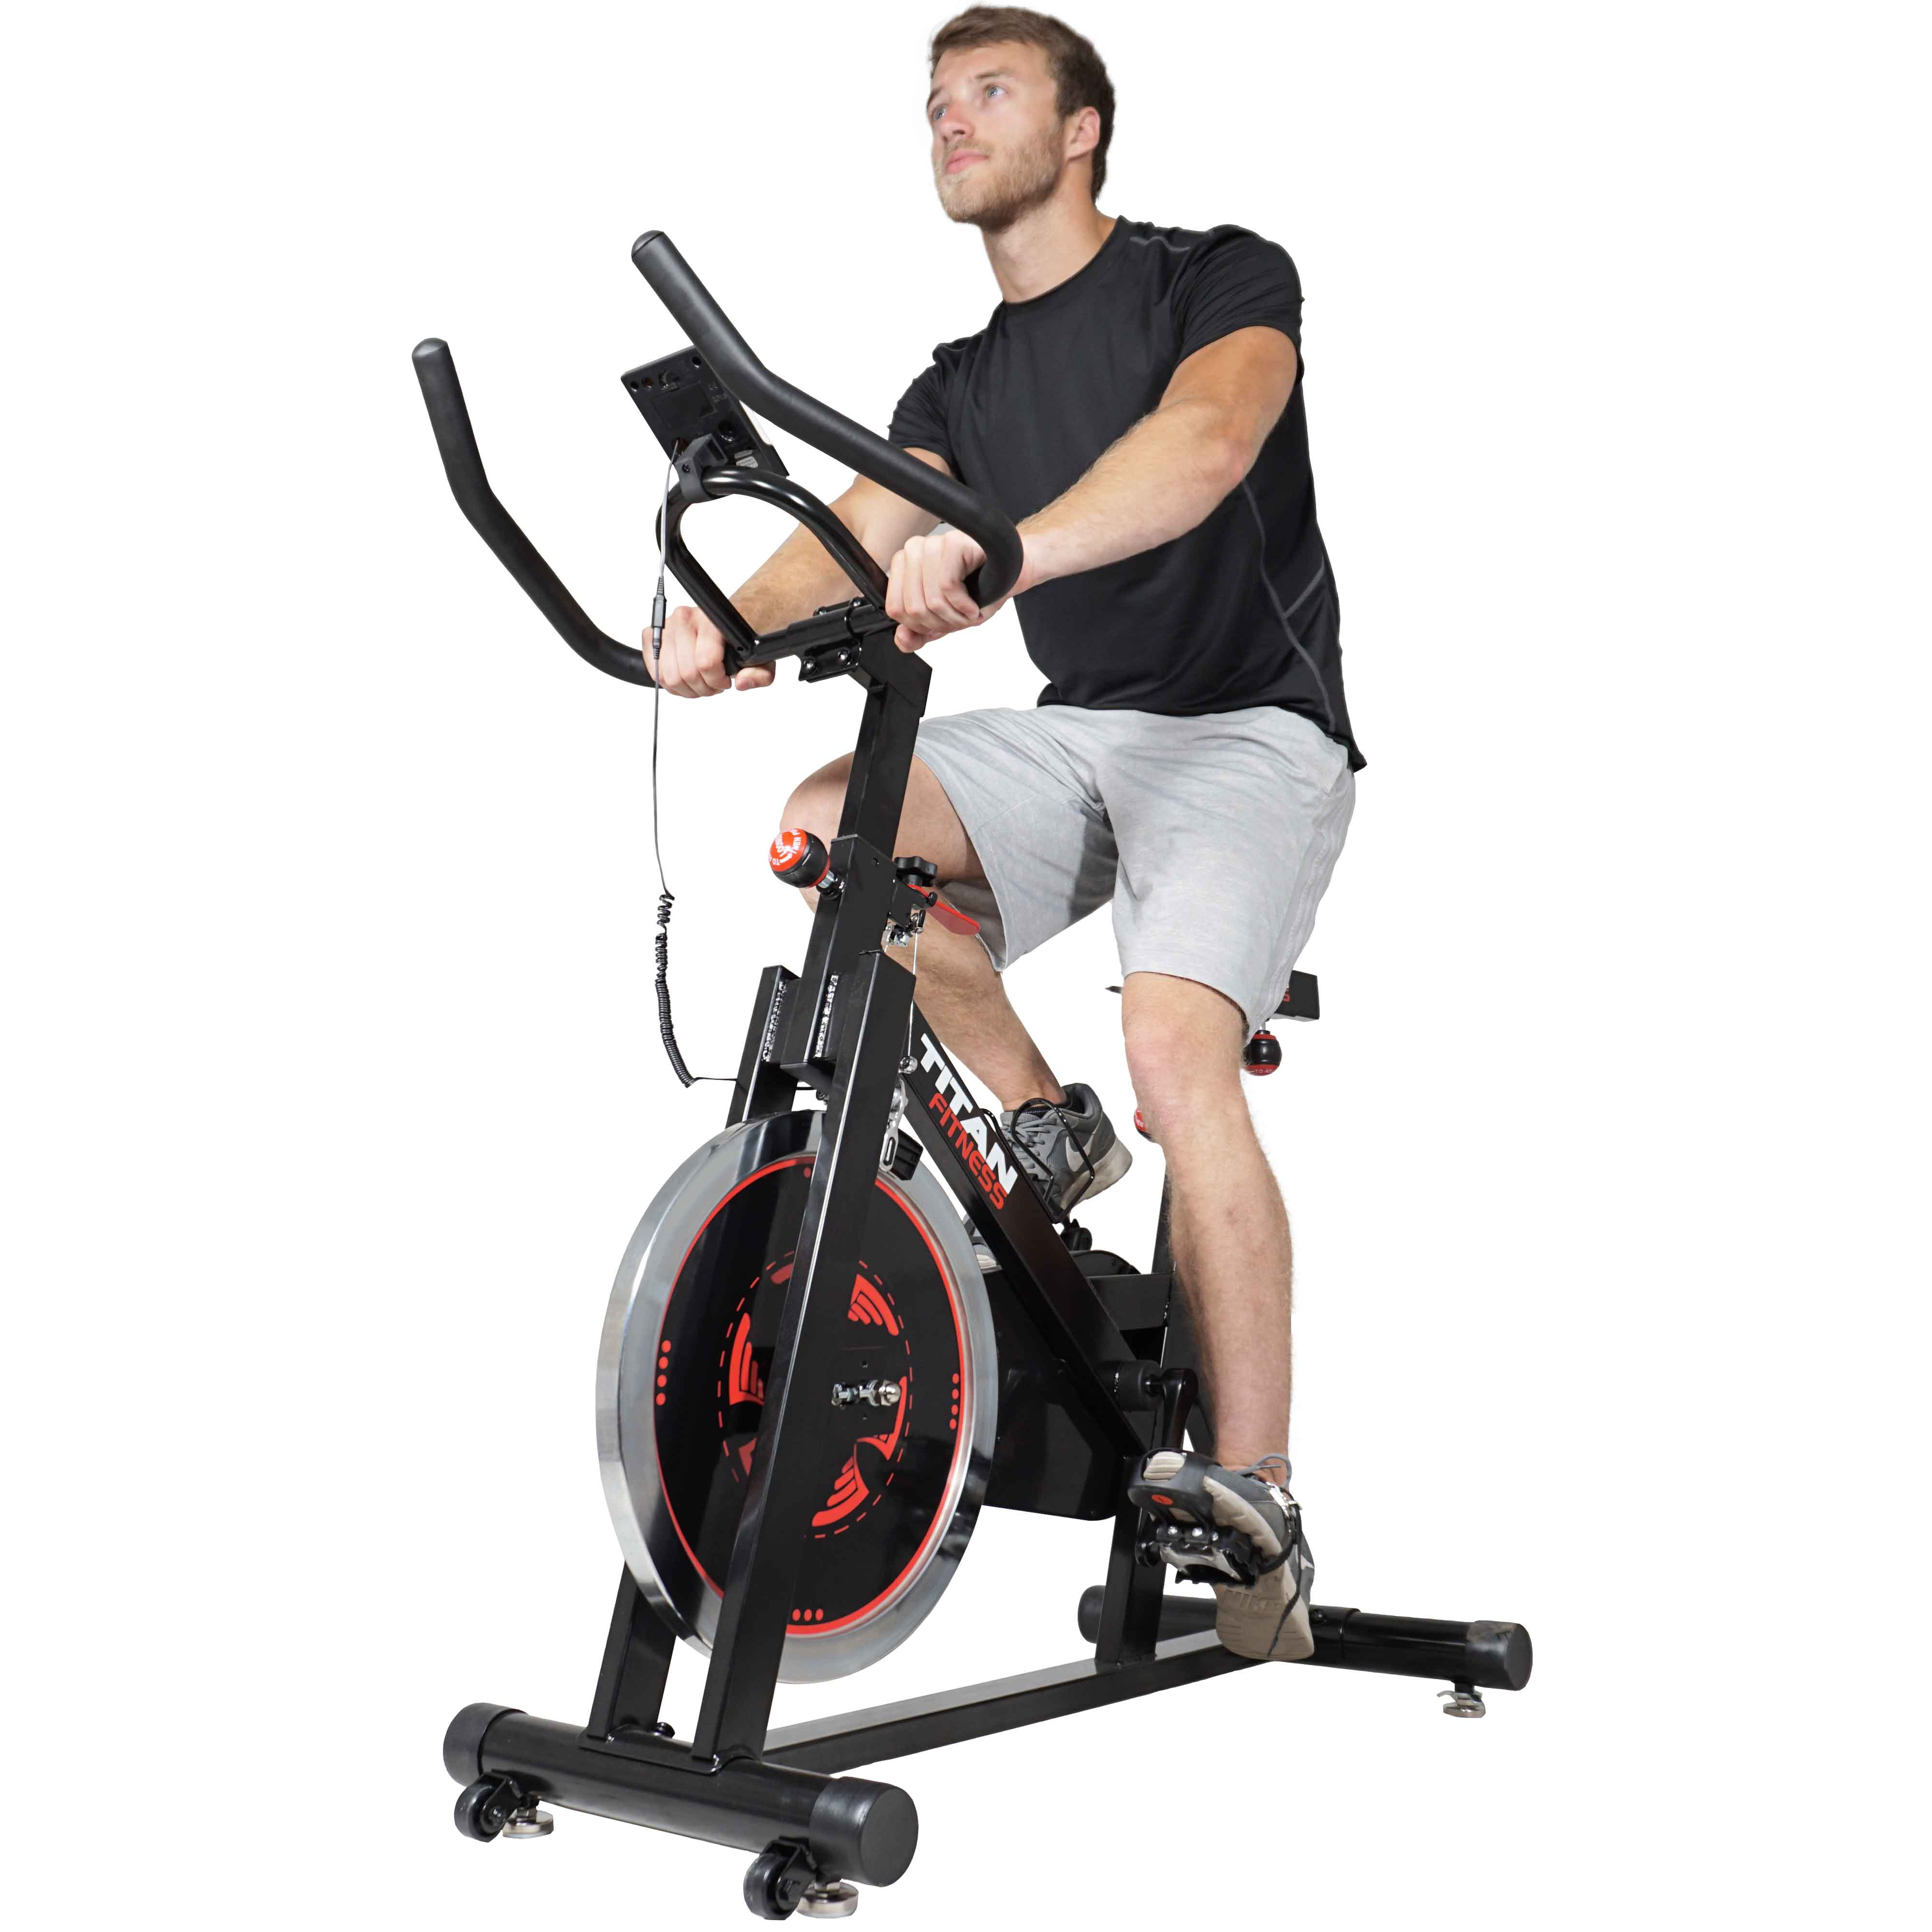gym_bike: (262, 200, 1568, 1932)
